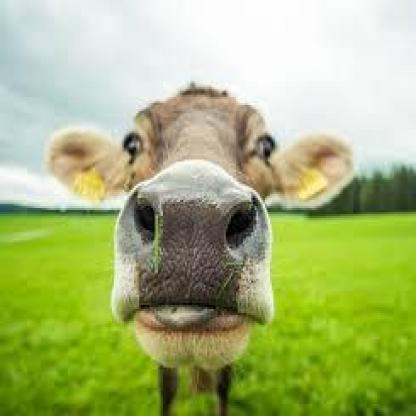cow: (46, 87, 356, 416)
